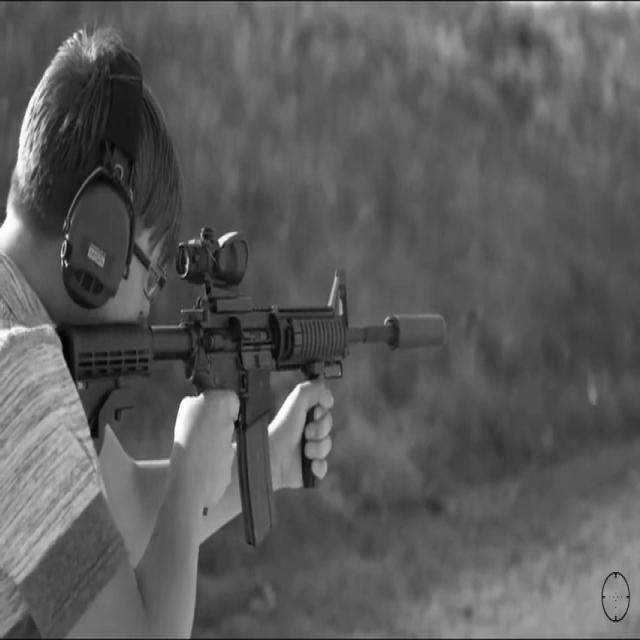Sniper: (60, 134, 473, 620)
